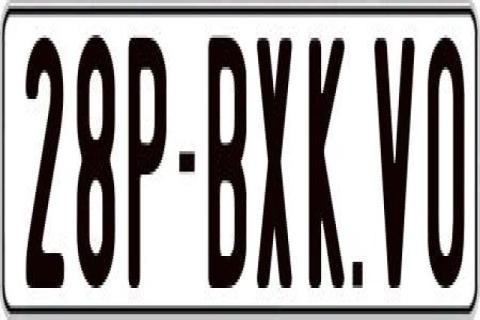0: (76, 32, 117, 300), (26, 29, 66, 279), (426, 32, 464, 285)
B: (206, 35, 246, 299)
K: (306, 38, 344, 297)
P: (127, 29, 169, 291)
V: (374, 29, 414, 279)
X: (254, 32, 290, 282)
